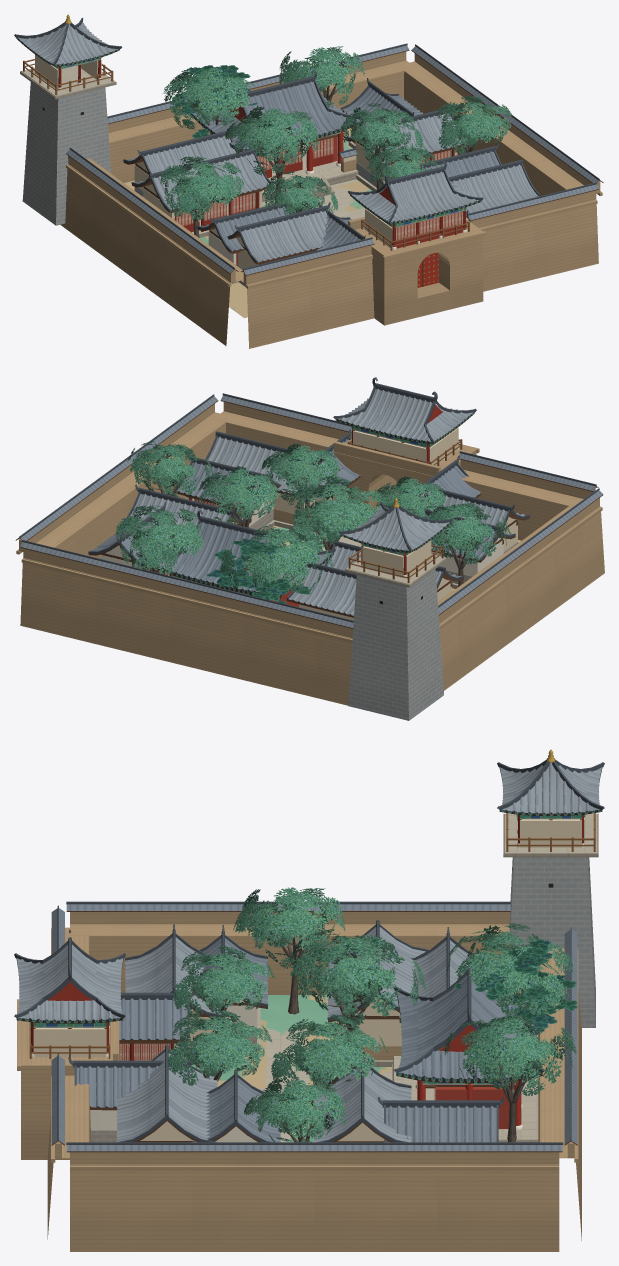
Rendered from City_1.glb.
The picture shows the model from 3 angles, top to bottom: view 1: azimuth 30°, elevation 25°; view 2: azimuth 150°, elevation 25°; view 3: azimuth 270°, elevation 25°; orthographic projection. The views are drawn at different scales.
Visible parts, largest first — view 1: City_1; view 2: City_1; view 3: City_1.
Part boxes in pixels (x1,y1,x2,y2): City_1: [14, 14, 603, 348]; City_1: [15, 377, 604, 720]; City_1: [14, 749, 604, 1251].
Size of the model in its own units: 43.64 by 20.91 by 42.03.
Materials: 6 (6 with a texture image).
